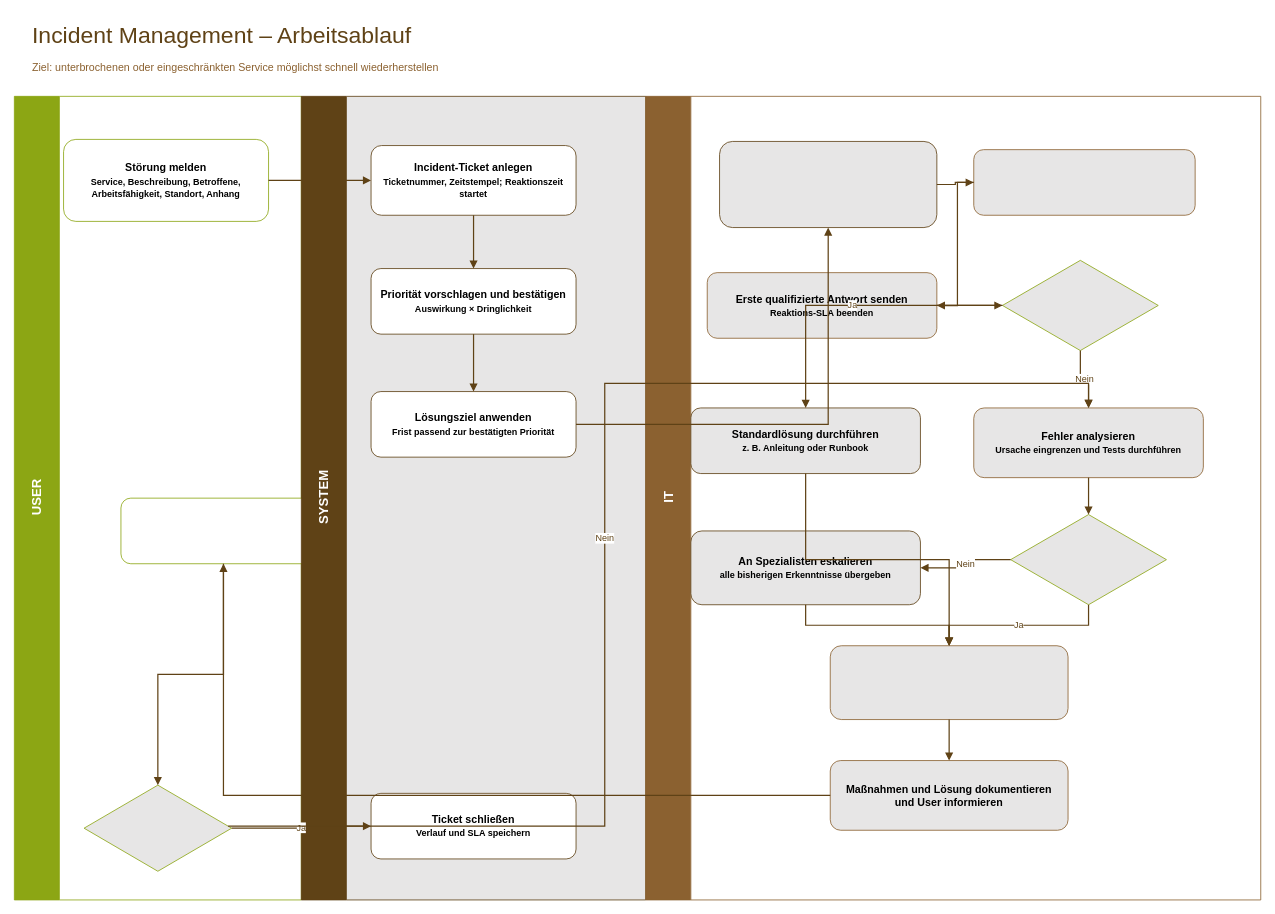
Image size: 1275x914. Some labels were removed from this diagram. The shapes that lost their labels are listed below. From the top down, each one's centre as x and y in pixels, then its label:
At pixel 828 184: "Ticket prüfen Vollständigkeit, Service, Duplikat, Priorität und Zuständigkeit".
At pixel 1084 182: "Team und Bearbeiter zuweisen Status: Zugewiesen".
At pixel 1080 305: "Bekannte Lösung vorhanden?".
At pixel 223 530: "Rückmeldung erhalten und Ergebnis testen".
At pixel 1088 559: "Durch IT-Support lösbar?".
At pixel 948 682: "Lösung durchführen und testen Service wiederherstellen und Funktion prüfen".
At pixel 157 827: "Problem wirklich gelöst?".
